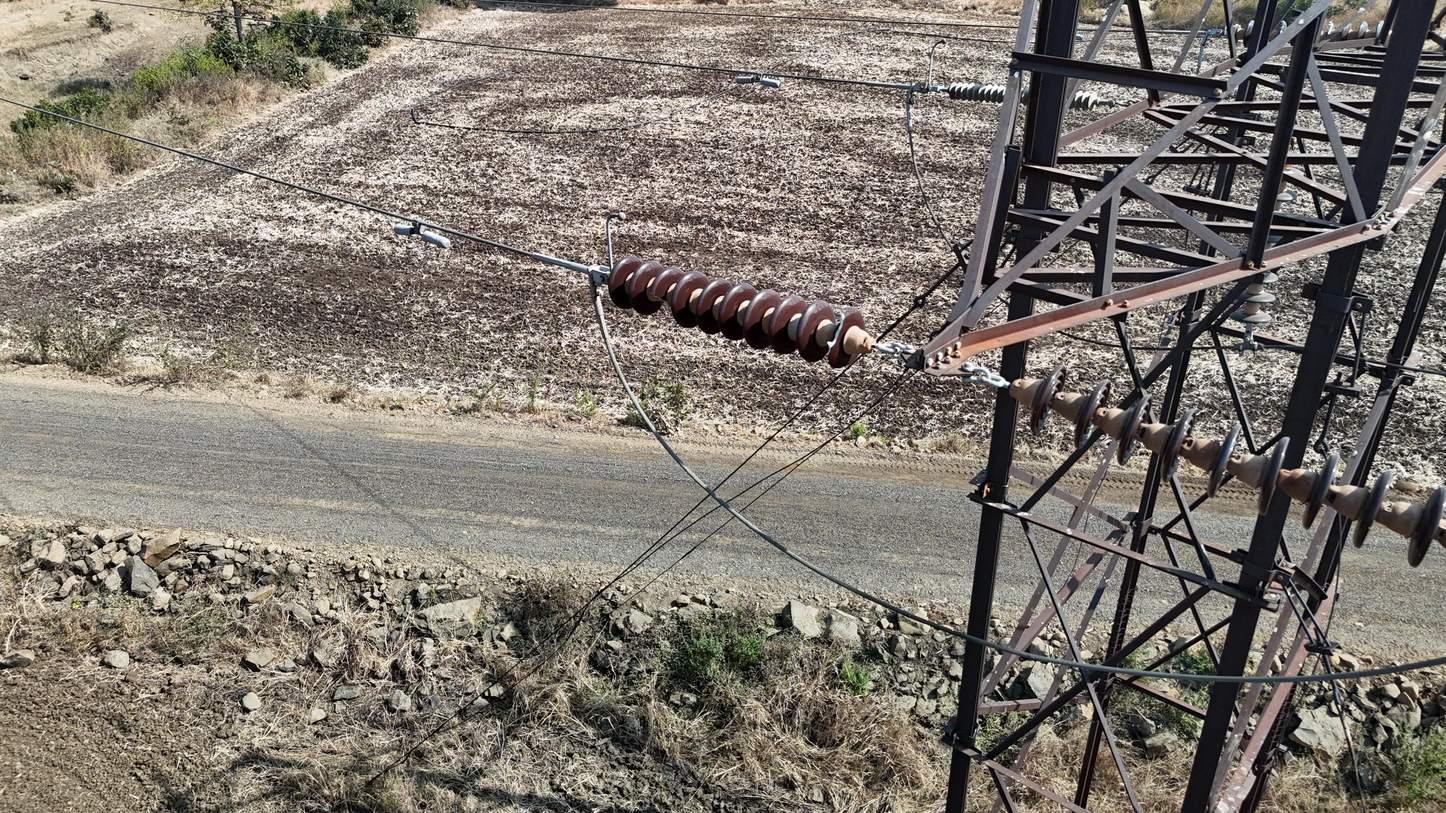broken_insulator: (824, 301, 864, 375), (646, 264, 681, 311), (1229, 21, 1242, 44), (1277, 20, 1288, 46), (1326, 20, 1336, 43)
